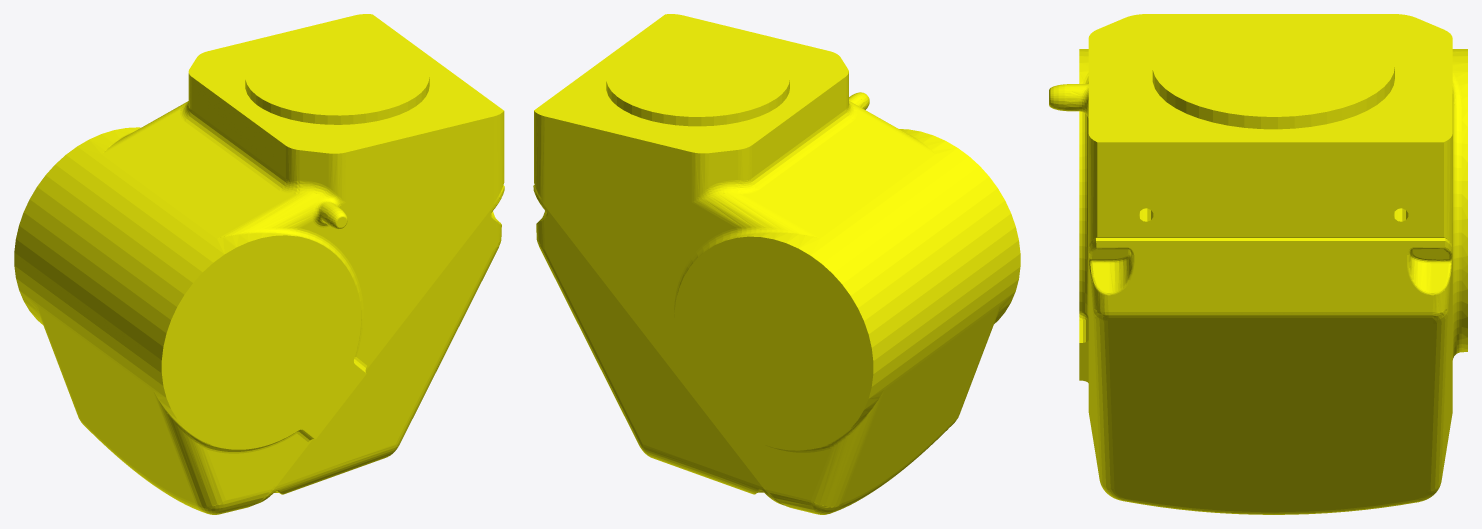
3 renders of one model, left to right at view 1: azimuth 30°, elevation 25°; view 2: azimuth 150°, elevation 25°; view 3: azimuth 270°, elevation 25°, orthographic. The views are drawn at different scales.
Parts seen in each view (by area): view 1: node; view 2: node; view 3: node.
Boxes of the visible parts, x1,y1,x2,y2 form: node: (14,14,504,514); node: (533,14,1020,514); node: (1049,14,1467,514).
Size of the model in its own units: 175 by 174 by 138.
